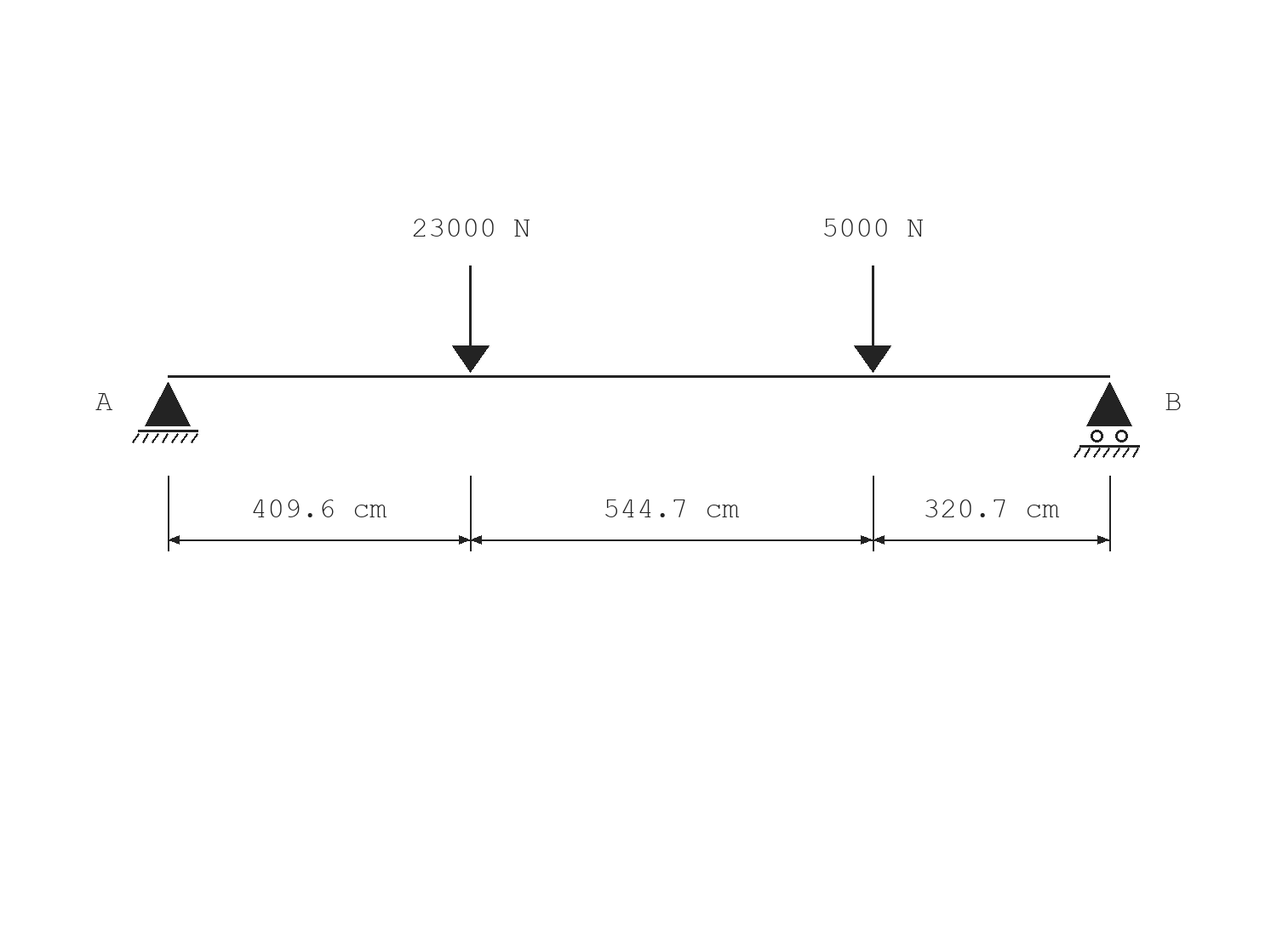pin_support: (132, 382, 198, 443)
point_load: (452, 265, 490, 373), (854, 265, 891, 373)
roller_support: (1074, 382, 1140, 458)
